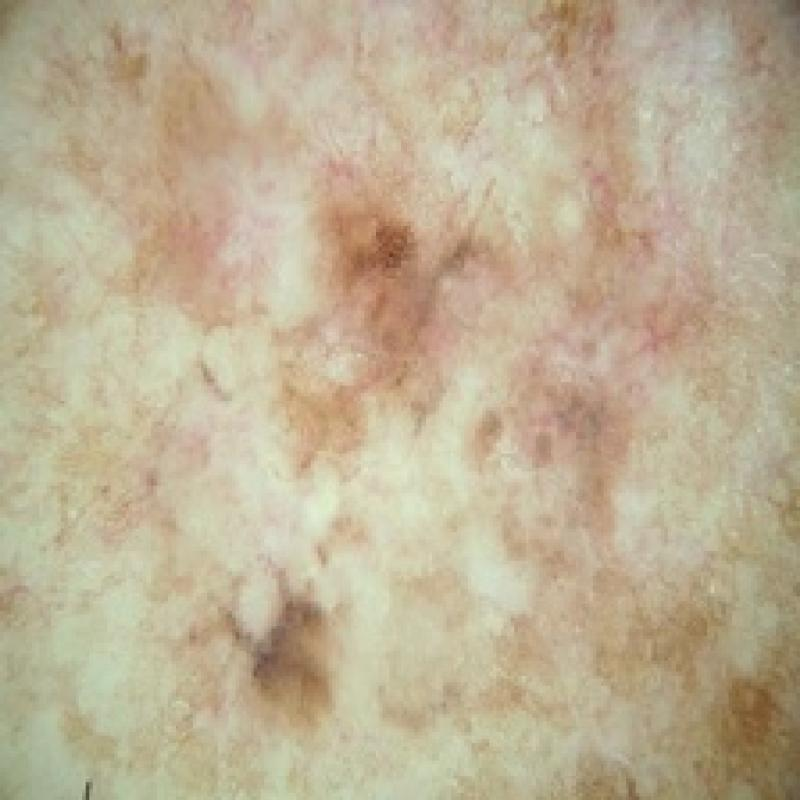malignant: (48, 36, 740, 765)
